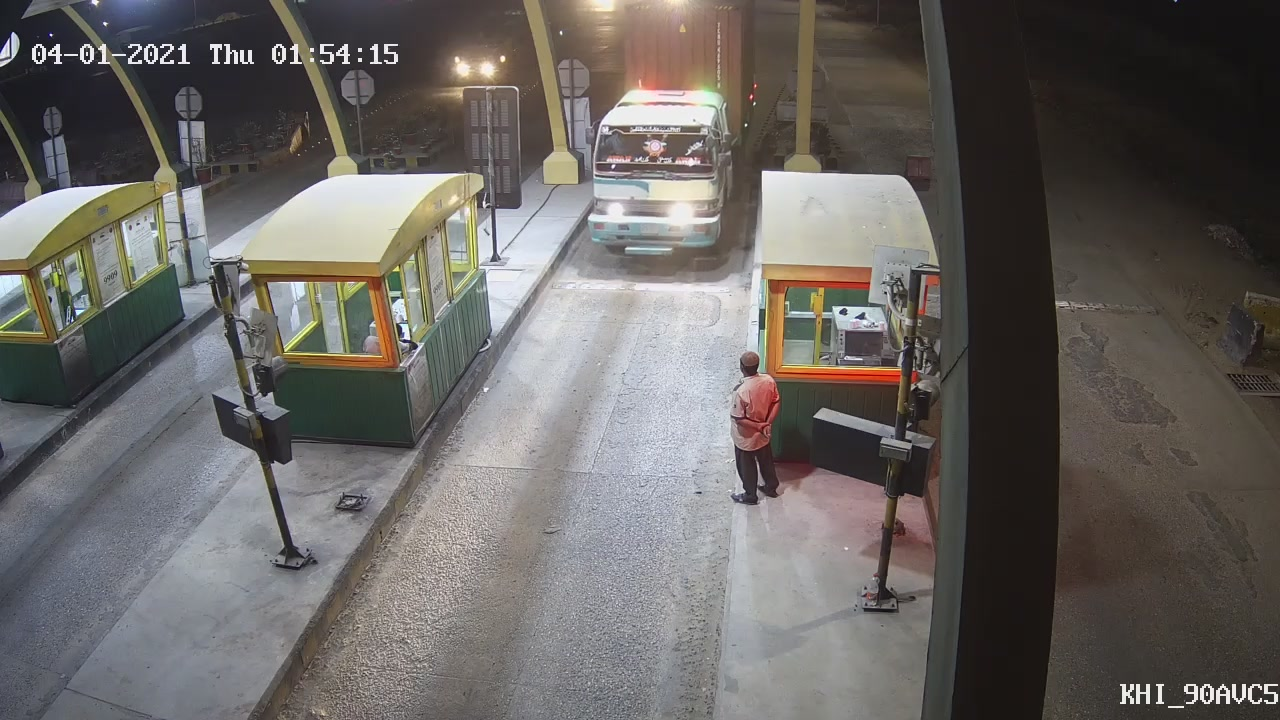F5: (583, 5, 743, 287)
